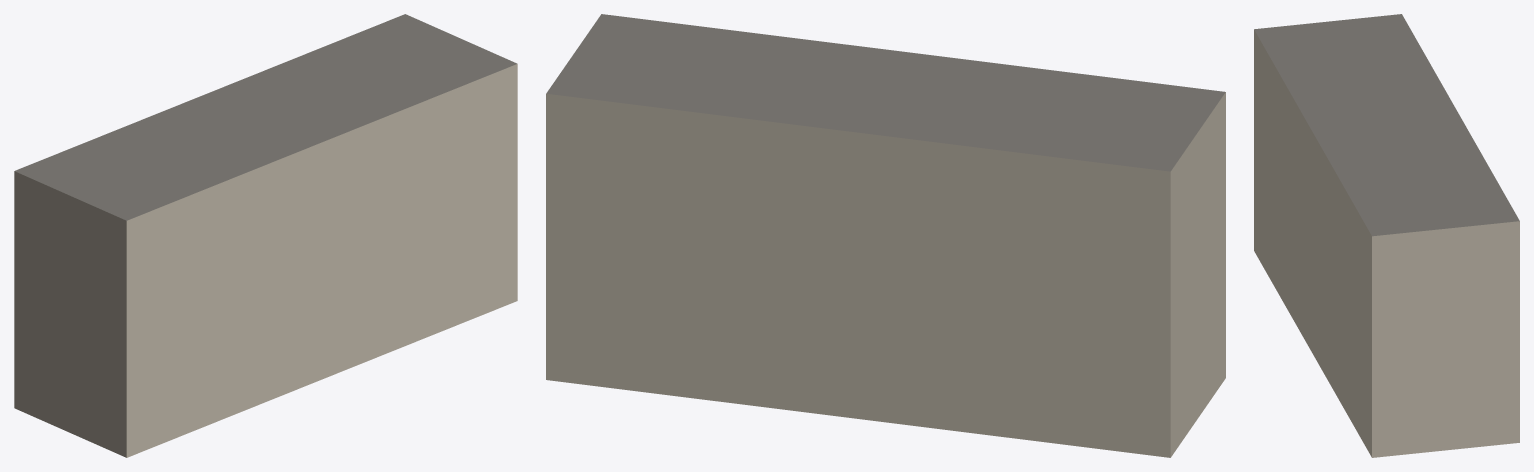
The picture shows the model from 3 angles, left to right: view 1: azimuth 30°, elevation 25°; view 2: azimuth 150°, elevation 25°; view 3: azimuth 270°, elevation 25°; orthographic projection. The views are drawn at different scales.
Visible parts, largest first — view 1: HP-w380339885; view 2: HP-w380339885; view 3: HP-w380339885.
Boxes of the visible parts, <box> form: HP-w380339885: <box>14,14,517,457</box>; HP-w380339885: <box>546,14,1225,457</box>; HP-w380339885: <box>1254,14,1519,457</box>.
Bounding box in the file's own units: 32.26 × 15 × 16.31.
